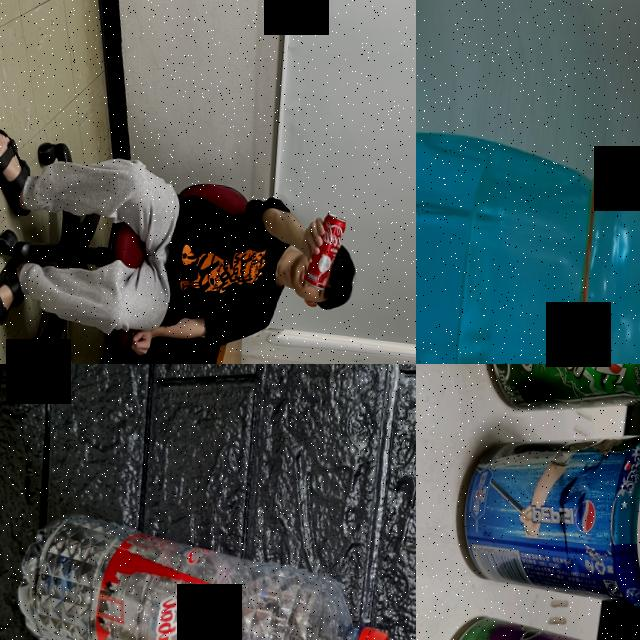bottle: (6, 482, 407, 640), (416, 118, 640, 364)
can: (445, 412, 640, 617), (300, 210, 348, 293)
